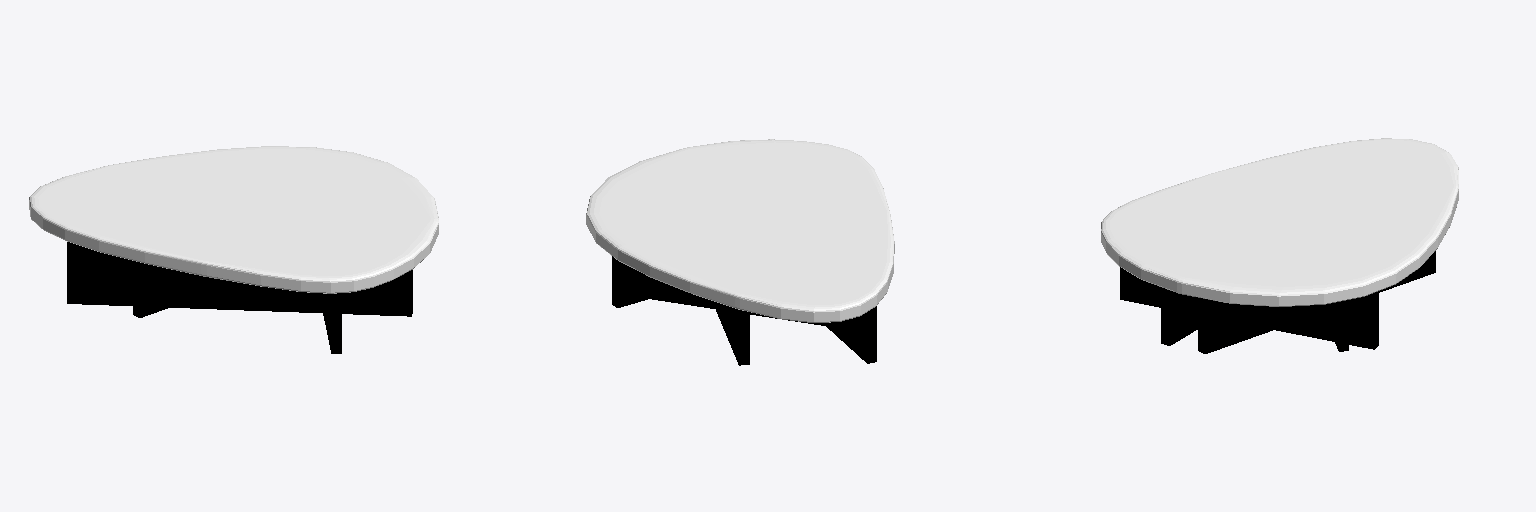
The model's file is glasstable1_black.obj.
3 views of the same model, side by side, from view 1: azimuth 30°, elevation 25°; view 2: azimuth 150°, elevation 25°; view 3: azimuth 270°, elevation 25° (orthographic).
Parts seen in each view (by area): view 1: Cylinder294, Box6076, Box6074, Box6075; view 2: Cylinder294, Box6076, Box6075, Box6077, Box6074; view 3: Cylinder294, Box6075, Box6077, Box6076, Box6074.
Part boxes in pixels (x1,y1,x2,y2): Cylinder294: (29,146,438,293); Box6076: (67,242,412,316); Box6074: (133,261,169,317); Box6075: (323,293,341,353); Cylinder294: (586,139,894,322); Box6076: (826,306,876,363); Box6075: (612,256,648,307); Box6077: (715,302,749,365); Box6074: (649,277,825,325); Cylinder294: (1101,138,1458,306); Box6075: (1120,267,1378,349); Box6077: (1198,251,1435,353); Box6076: (1161,287,1197,345); Box6074: (1335,300,1348,351).
Bounding box in the file's own units: 88.64 × 21.4 × 85.46.